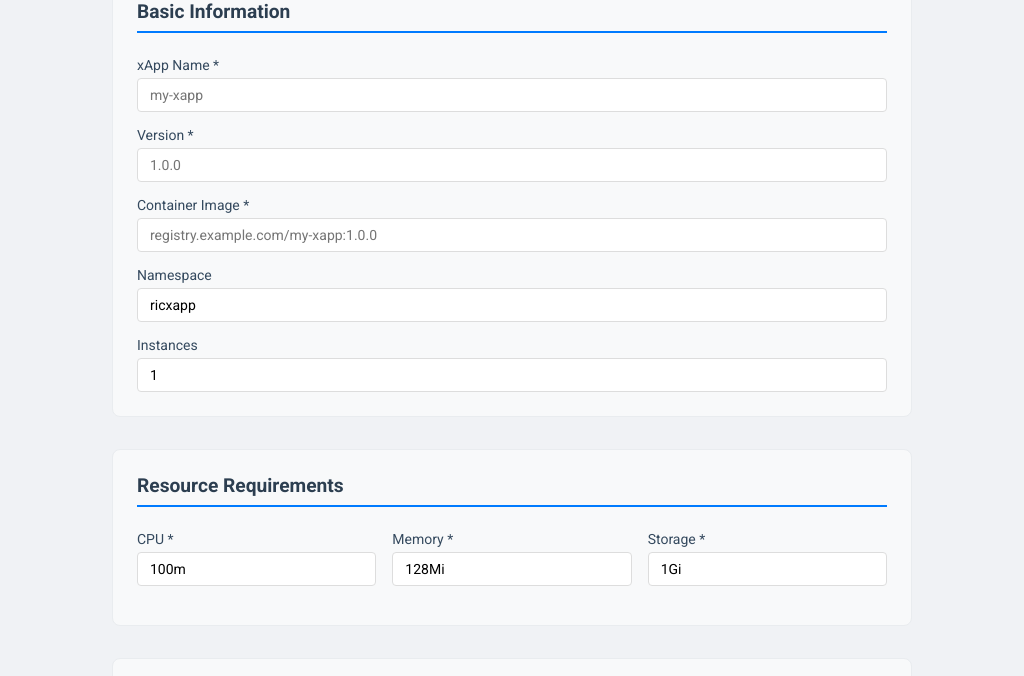
Test: XAppDeploymentForm › validates version format
In the field labelled "Version *": (512, 165) [137,148,887,182], type "invalid-version"
(page scrolled)
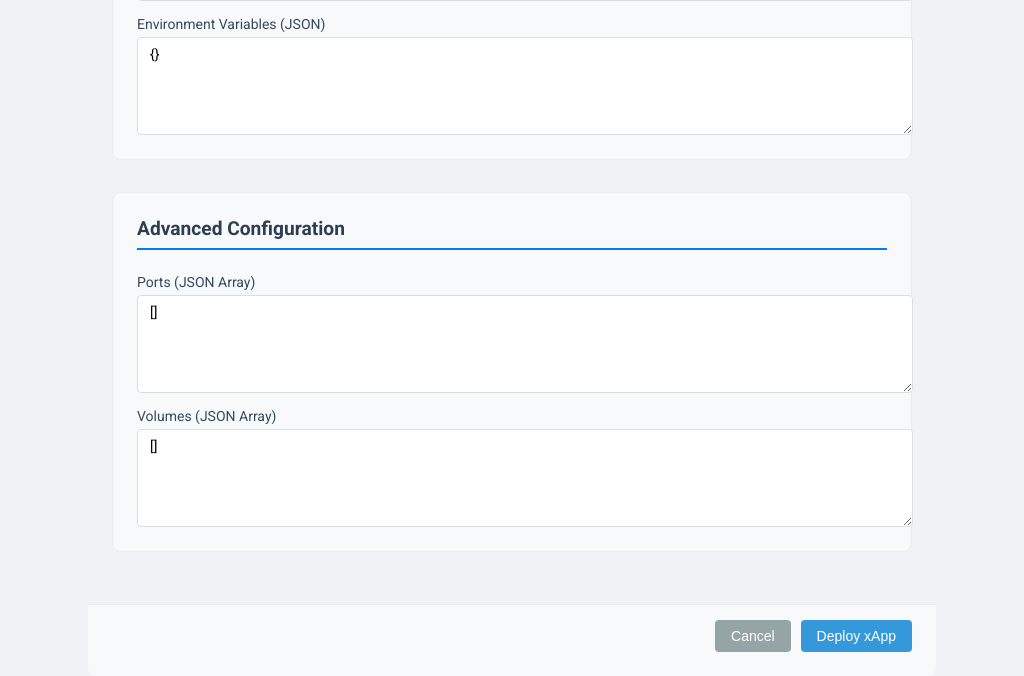
Click the button "Deploy xApp": (856, 636) [801,620,912,652]
(page scrolled)
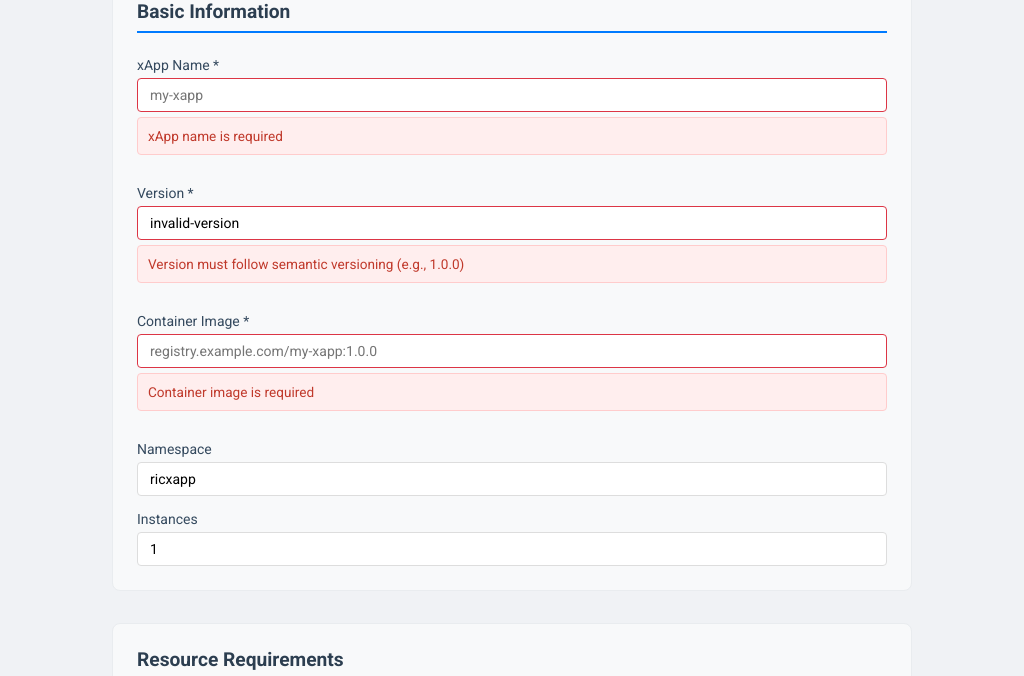
Now the text "Version must follow semantic versioning (e.g., 1.0.0)" is shown, box [137,245,887,283]
